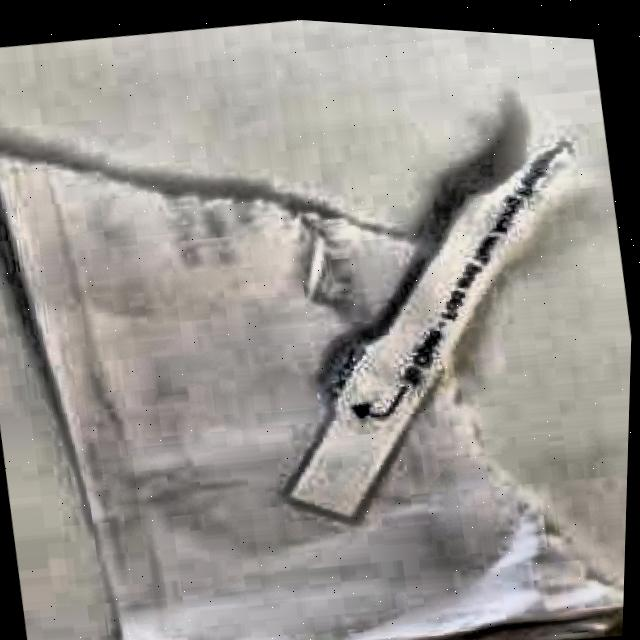paper: (0, 51, 639, 640)
